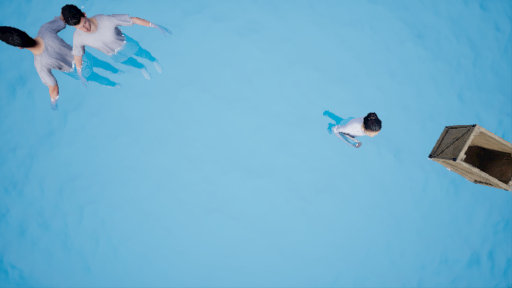person: (1, 9, 169, 107), (309, 106, 393, 149)
